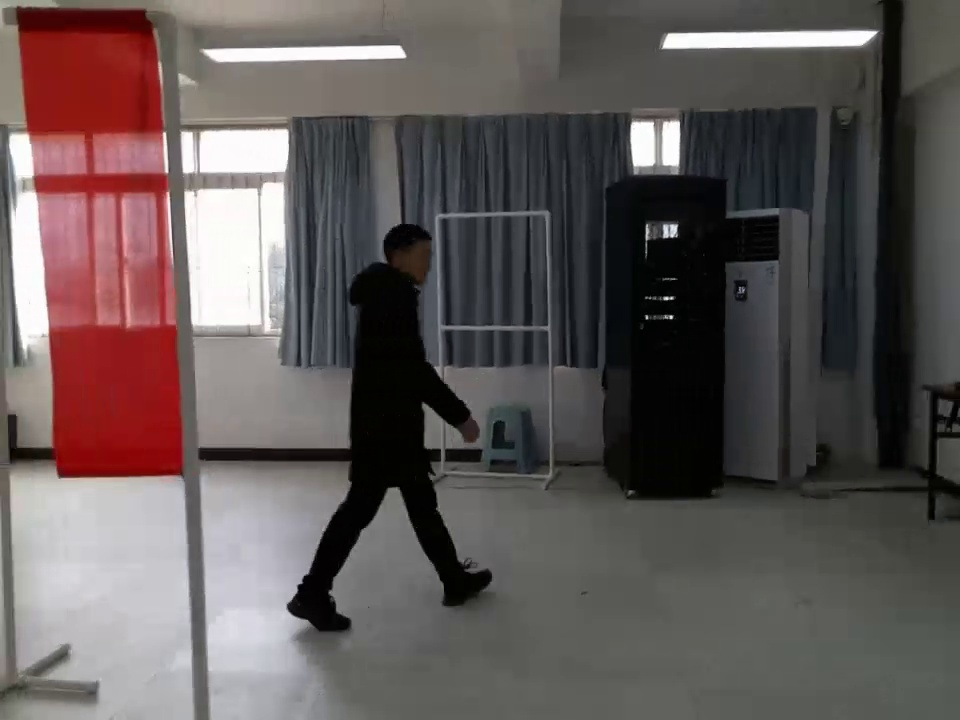qi: (4, 3, 199, 493)
